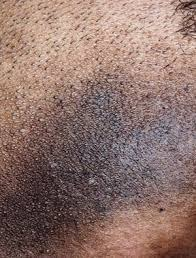Melasma: (174, 17, 196, 84)
